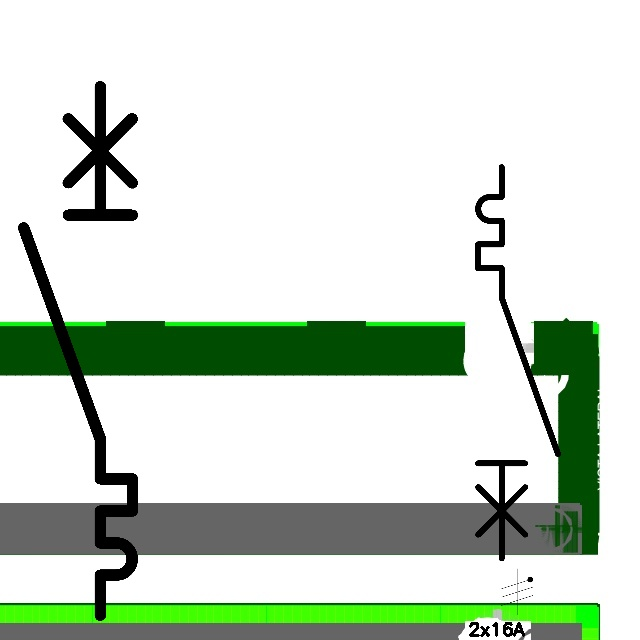interruptor_termomagnetico: (10, 73, 146, 629), (468, 157, 568, 568)
